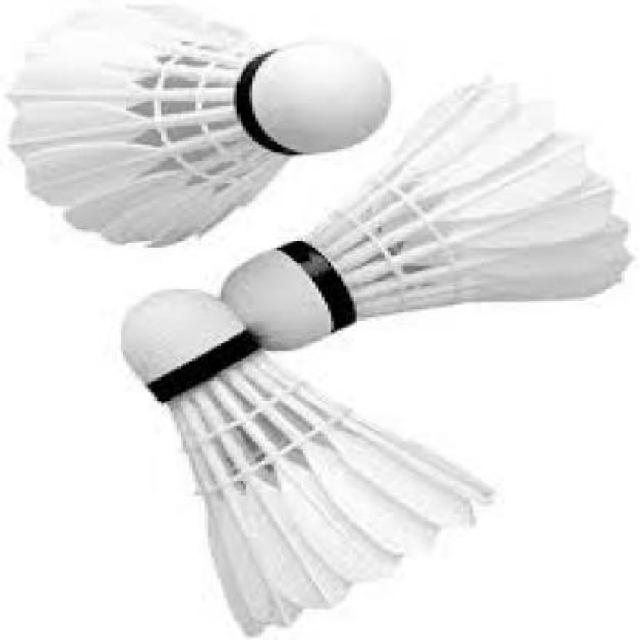Shuttlecock: (112, 284, 500, 634), (232, 78, 630, 351), (6, 1, 389, 248)
